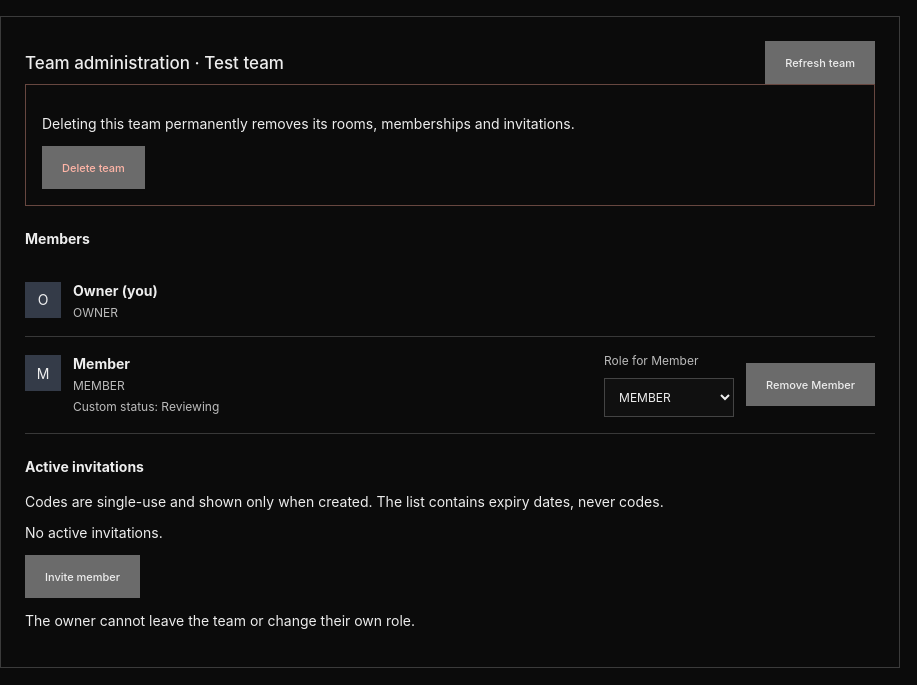
it: shows owner role and removal controls only for other members and confirms each change
Expected: the button "Refresh team" is enabled, [765,41,875,84]
Select "ADMIN" in the dropdown labelled "Role for Member" at point(669, 397), box [604,378,734,417]
Select "ADMIN" in the dropdown labelled "Role for Member" at point(669, 397), box [604,378,734,417]
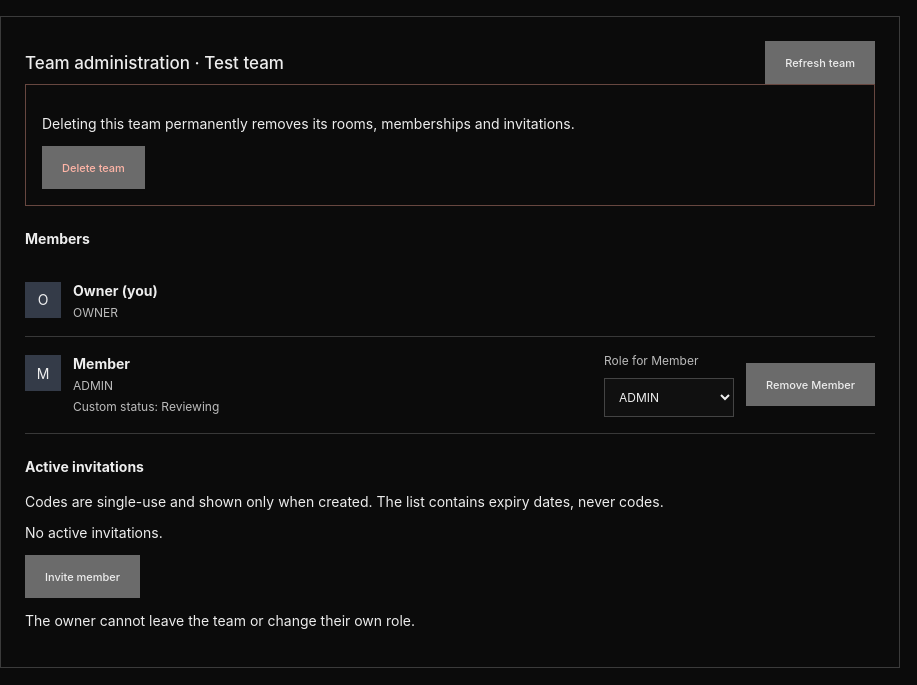
Expected: the button "Refresh team" is enabled, [765,41,875,84]
Click the button "Remove Member" at point(811, 385), box [746,363,875,406]
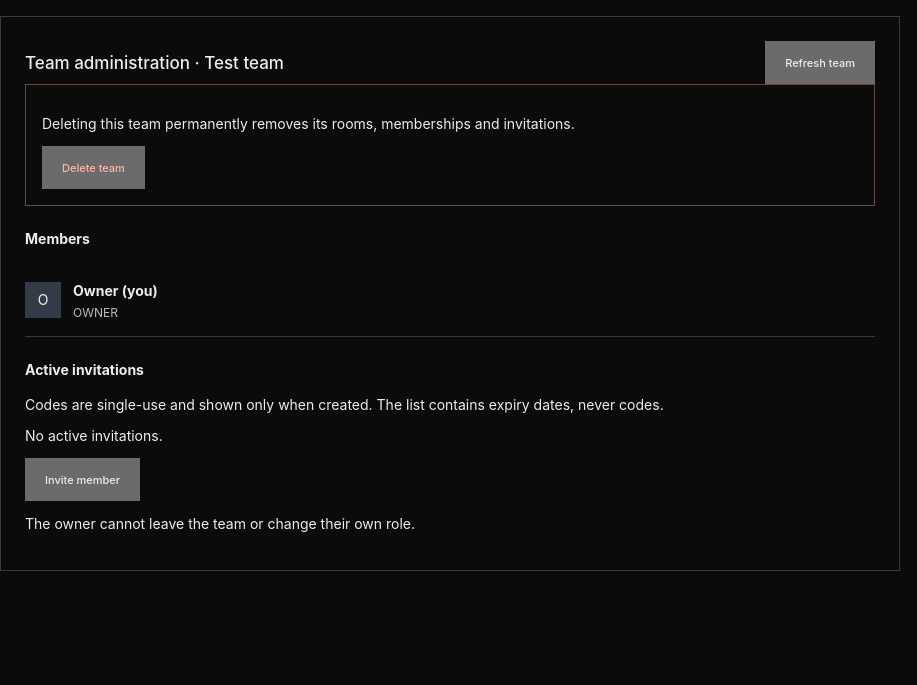
Result: the button "Remove Member" is gone
